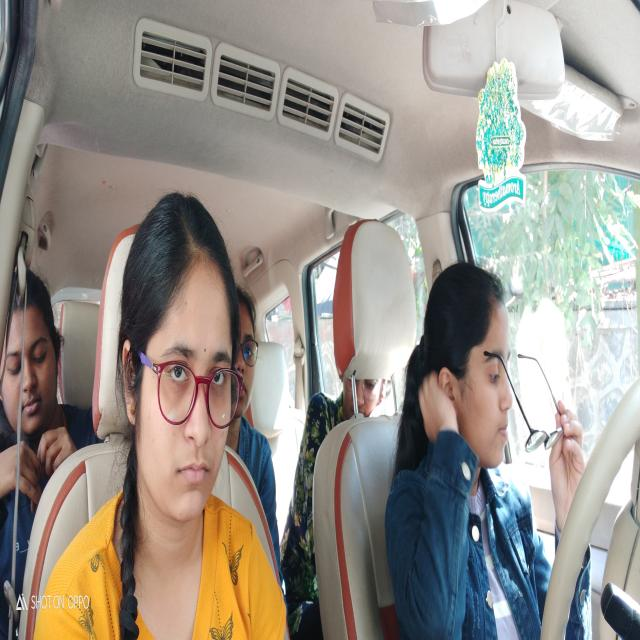person: (118, 165, 241, 523), (444, 242, 514, 480), (0, 268, 74, 452), (235, 262, 258, 429), (338, 378, 390, 418)
